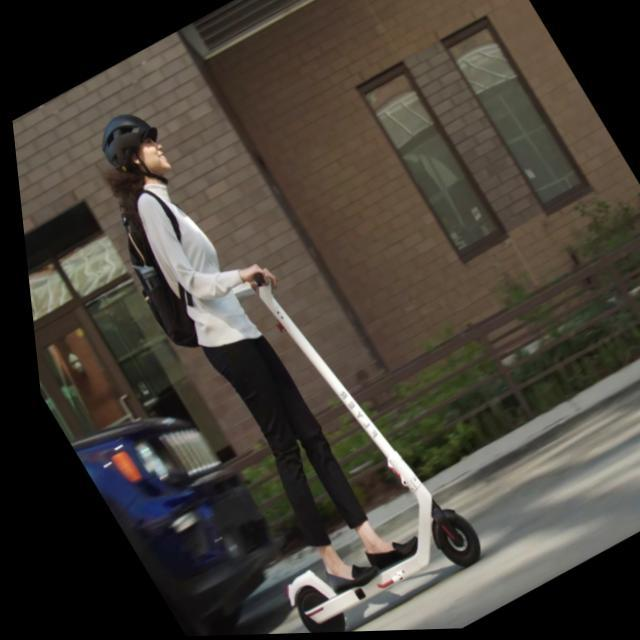Helmet: (99, 110, 175, 188)
